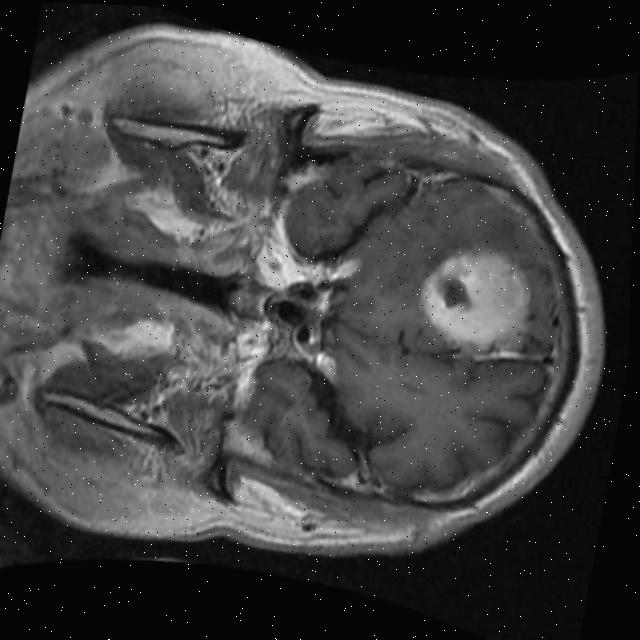Meningioma: (407, 233, 542, 364)
